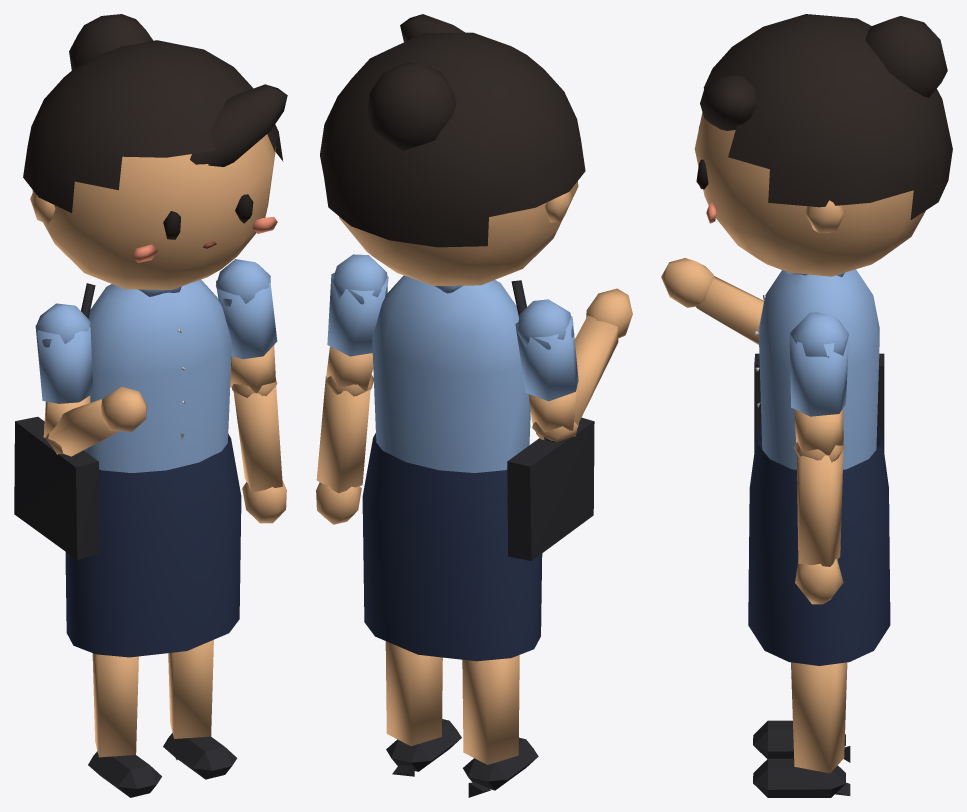
Rendered from era4_office_woman.glb.
The picture shows the model from 3 angles, left to right: view 1: azimuth 30°, elevation 25°; view 2: azimuth 150°, elevation 25°; view 3: azimuth 270°, elevation 25°; orthographic projection. The views are drawn at different scales.
Visible parts, largest first — view 1: body, head, shin_R, arm_L, shin_L, arm_R, forearm_L, forearm_R; view 2: body, head, shin_R, shin_L, arm_R, arm_L, forearm_L, forearm_R; view 3: head, body, shin_L, arm_L, forearm_L, forearm_R, shin_R.
Boxes of the visible parts, x1=… form: body: x1=14, y1=279, x2=241, y2=657; head: x1=23, y1=14, x2=287, y2=289; shin_R: x1=88, y1=653, x2=161, y2=797; arm_L: x1=216, y1=259, x2=277, y2=397; shin_L: x1=163, y1=640, x2=237, y2=779; arm_R: x1=35, y1=303, x2=93, y2=453; forearm_L: x1=233, y1=382, x2=286, y2=523; forearm_R: x1=48, y1=386, x2=147, y2=456; body: x1=362, y1=275, x2=594, y2=661; head: x1=320, y1=14, x2=585, y2=285; shin_R: x1=462, y1=655, x2=538, y2=797; shin_L: x1=385, y1=641, x2=461, y2=776; arm_R: x1=515, y1=299, x2=578, y2=440; arm_L: x1=326, y1=254, x2=388, y2=396; forearm_L: x1=316, y1=375, x2=373, y2=524; forearm_R: x1=535, y1=288, x2=632, y2=441; head: x1=694, y1=14, x2=952, y2=276; body: x1=748, y1=269, x2=890, y2=665; shin_L: x1=753, y1=662, x2=850, y2=797; arm_L: x1=789, y1=312, x2=848, y2=462; forearm_L: x1=795, y1=450, x2=843, y2=604; forearm_R: x1=661, y1=258, x2=763, y2=344; shin_R: x1=753, y1=720, x2=850, y2=762.
Bounding box in the file's own units: 0.5313 × 1.48 × 0.5162.
